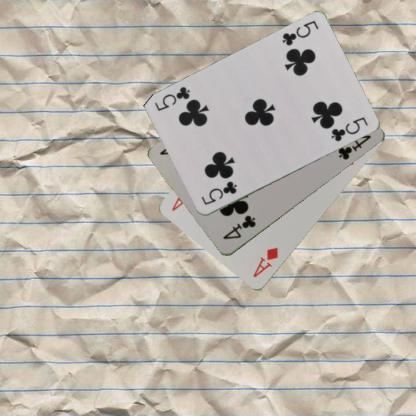4c: (220, 212, 257, 242)
5c: (280, 18, 320, 48), (198, 179, 238, 206)
Ad: (250, 245, 280, 279)
